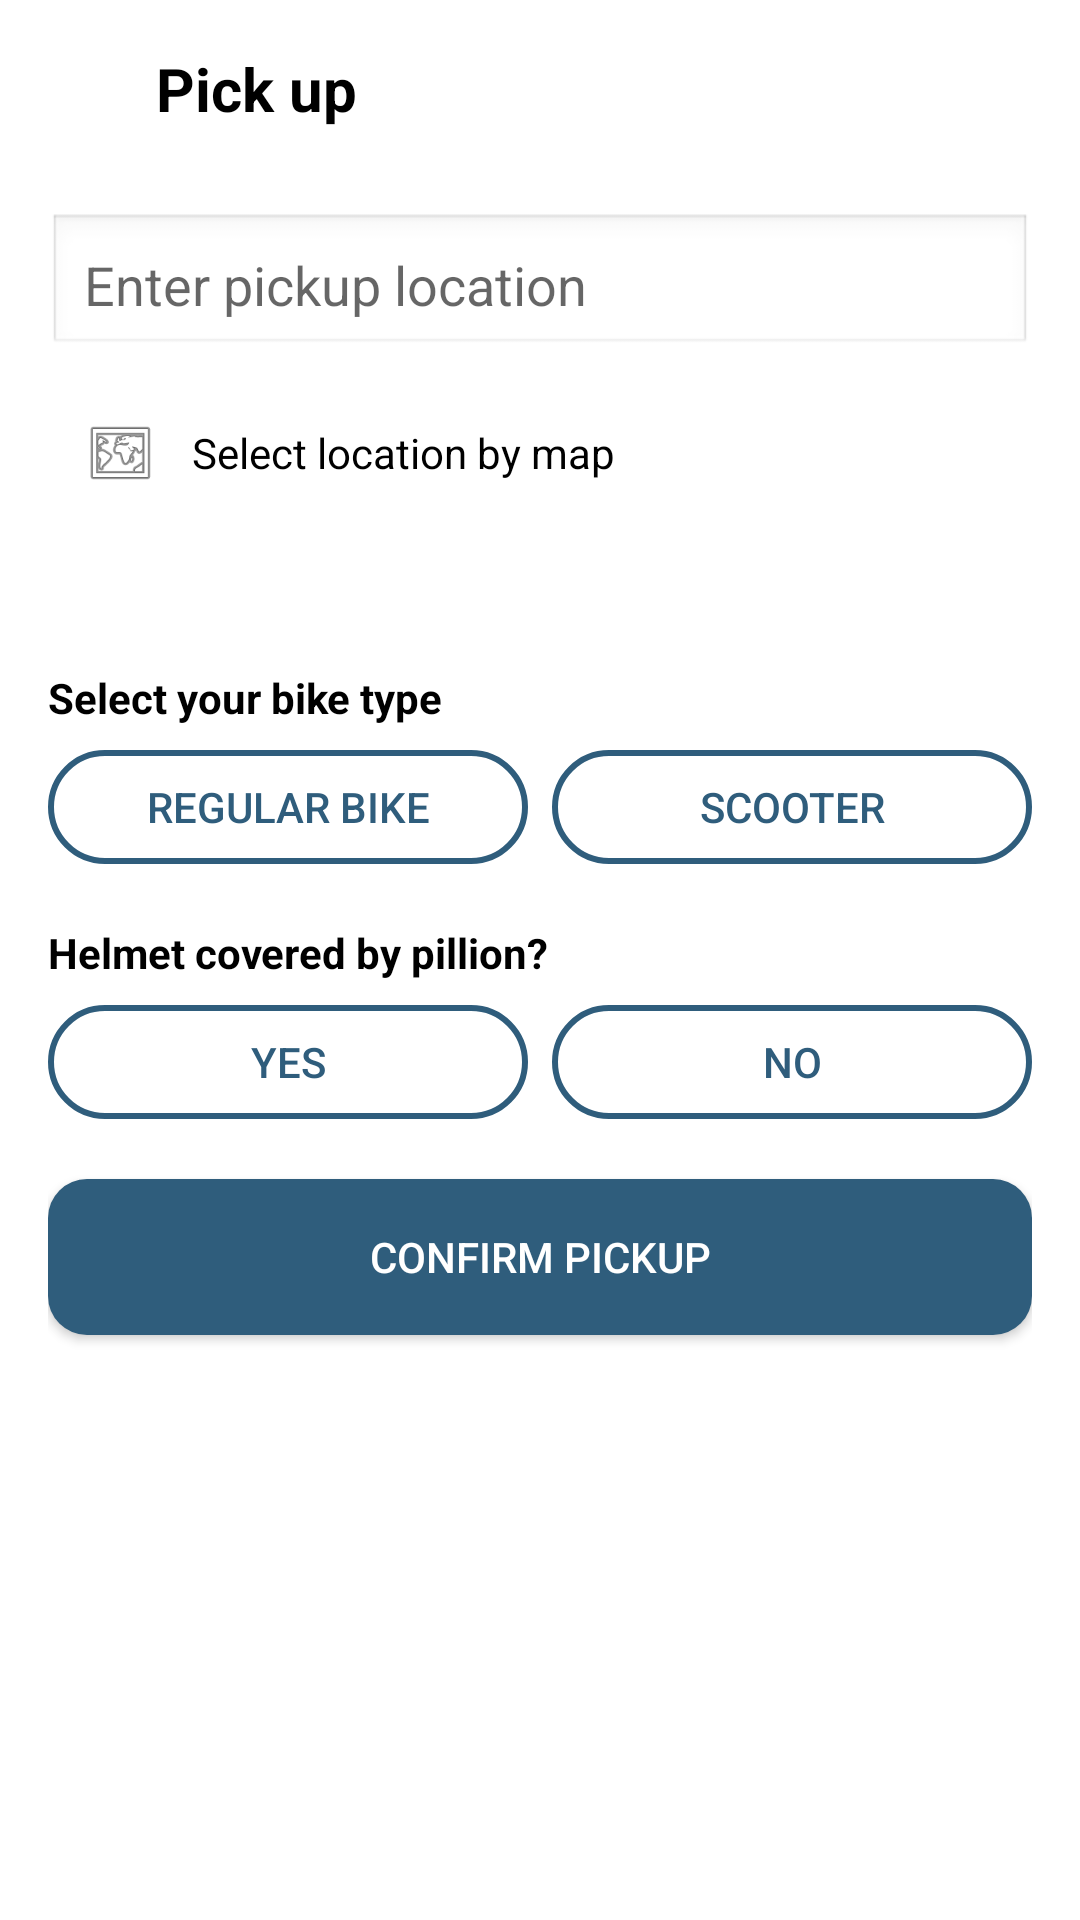

Screen size 1080 x 1920. Icon name, then its center in pixels as [x,y]:
mapmode: [120,453]
